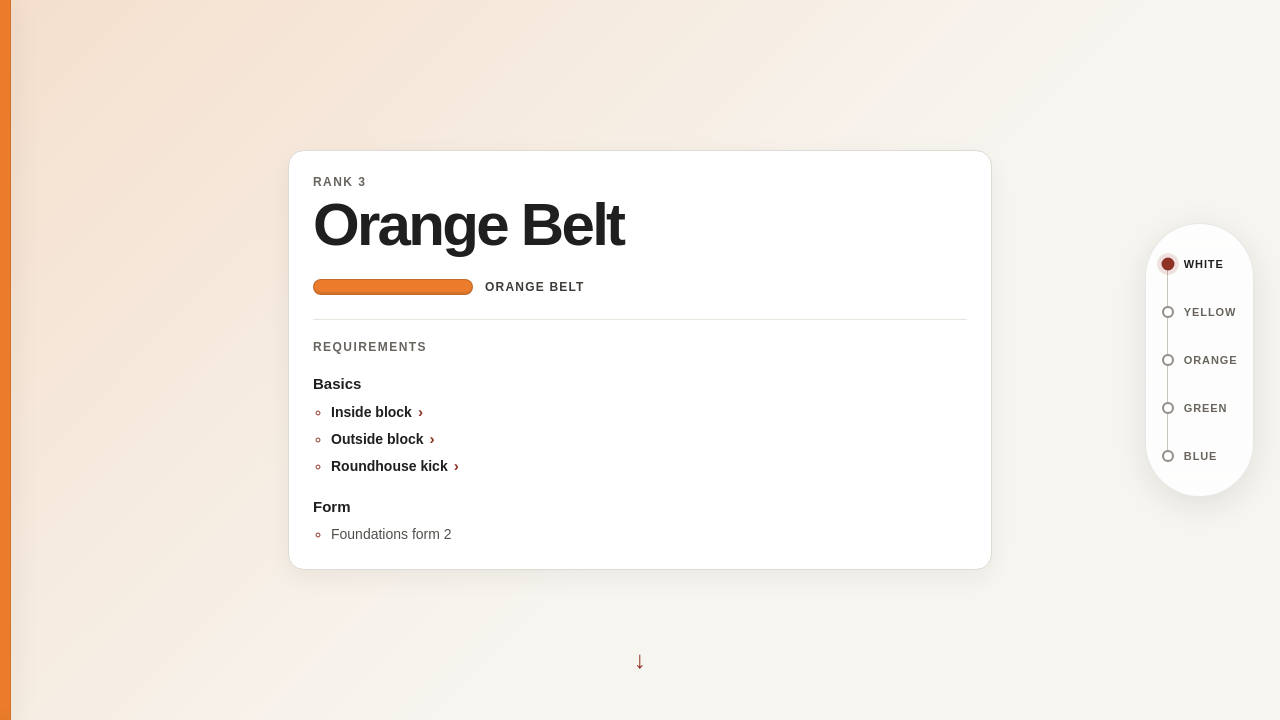
Scenario: FortMyersKaratePage › shows the corresponding curriculum data when techniques are switched
(page scrolled)
Click the button "Inside block ›" at [377, 412], box [327,398,427,426]
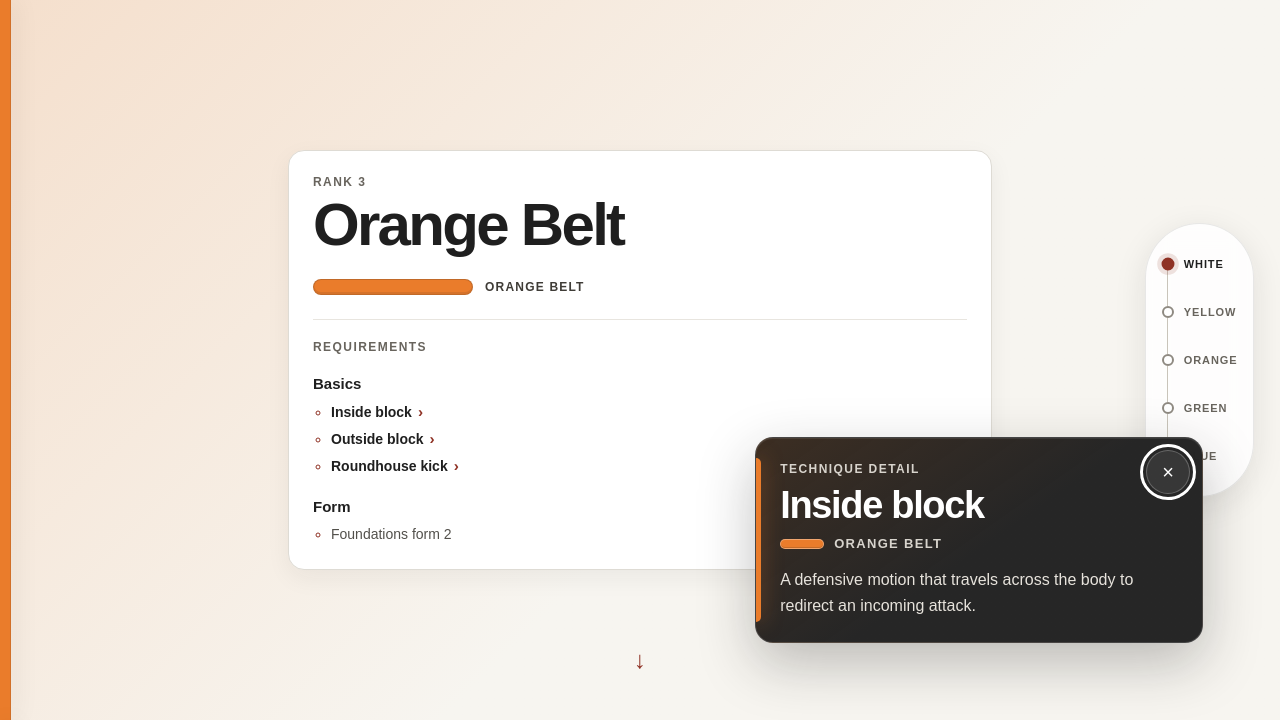
Check: the element "Inside block" is shown, box [755,437,1203,643]
Check: the text "A defensive motion that travels across the body to redirect an incoming attack." is shown, box [780,567,1178,618]
Click the button "Outside block ›" at [383, 439], box [327,424,439,454]
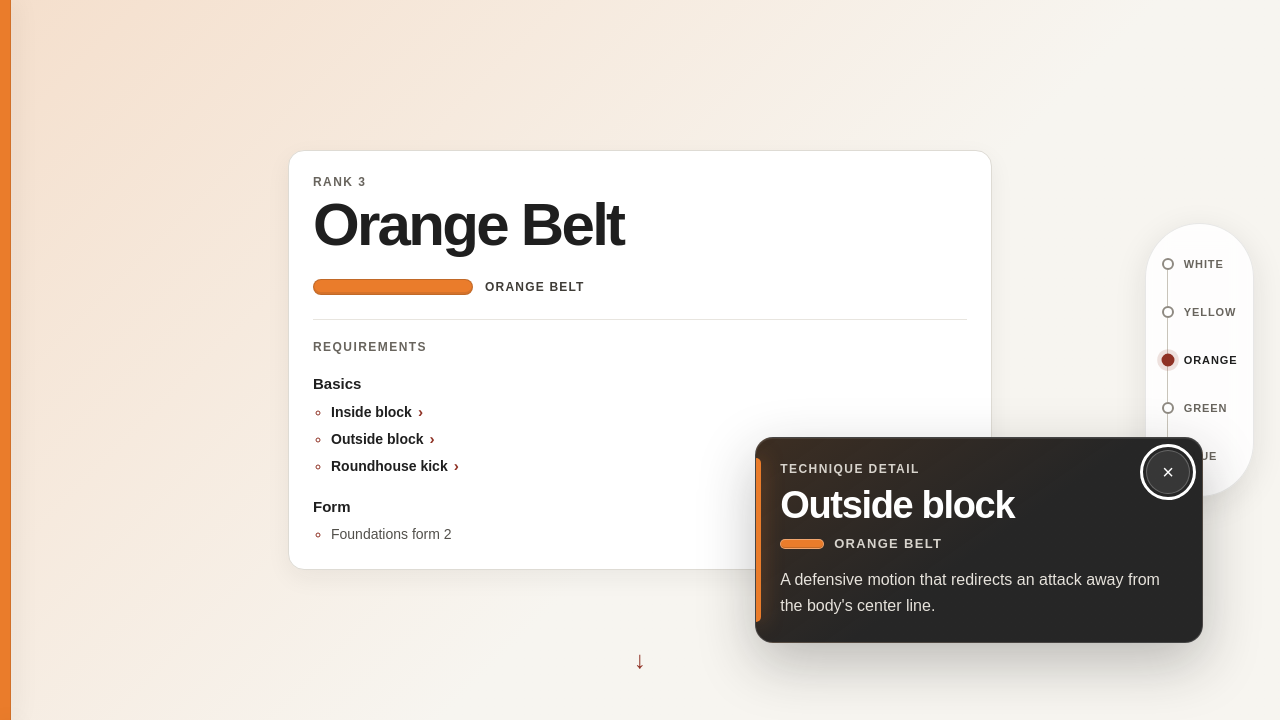
Check: the element "Outside block" is shown, box [755,437,1203,643]
Check: the text "A defensive motion that redirects an attack away from the body's center line." is shown, box [780,567,1178,618]
